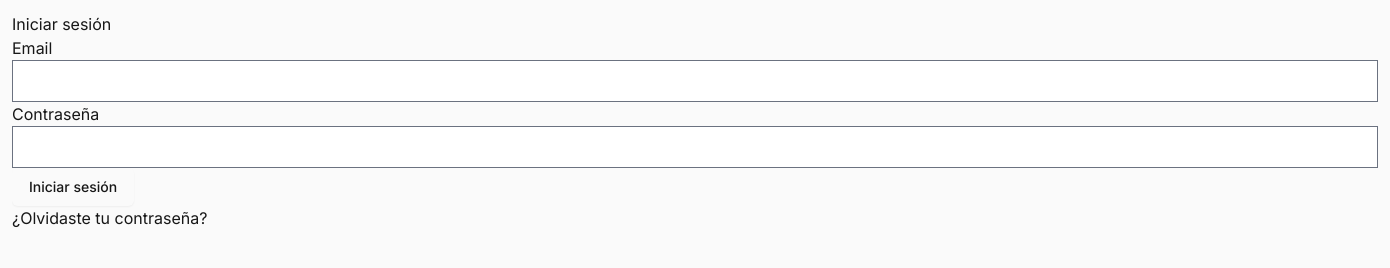
Scenario: LoginPage › shows generic error on invalid credentials
Type "user@example.com" into the field labelled "Email" at {"x": 695, "y": 81}, box [12,60,1378,102]
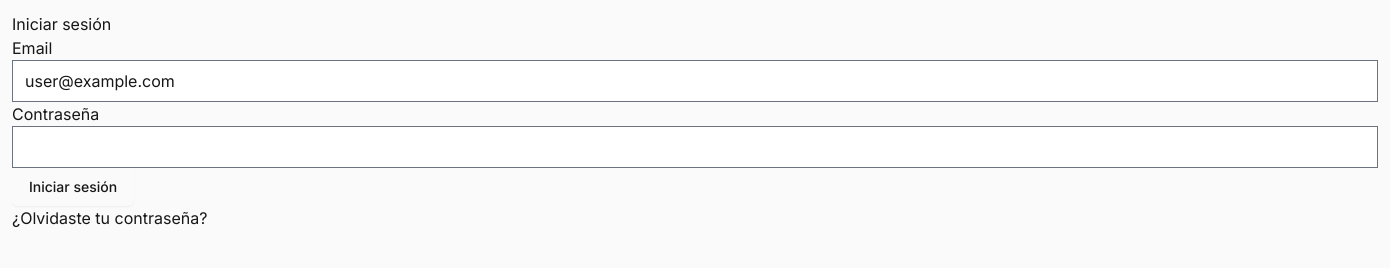
Type "wrongpass" into the password field labelled "Contraseña" at {"x": 695, "y": 147}, box [12,126,1378,168]
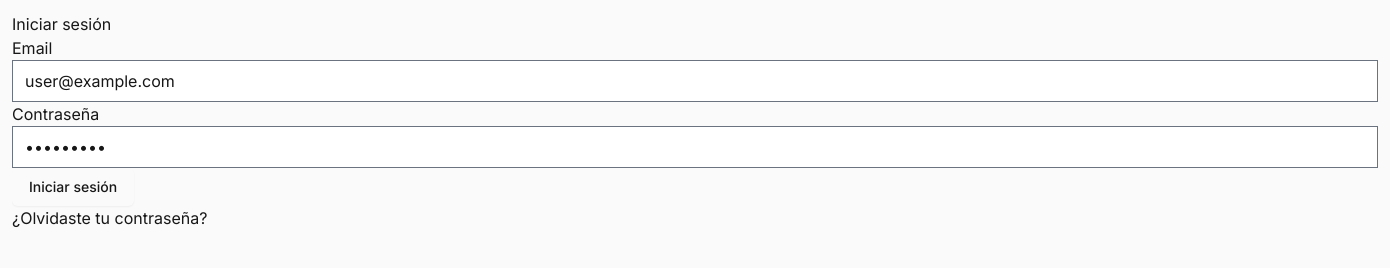
Click the button "Iniciar sesión" at {"x": 73, "y": 187}, box [12,168,134,206]
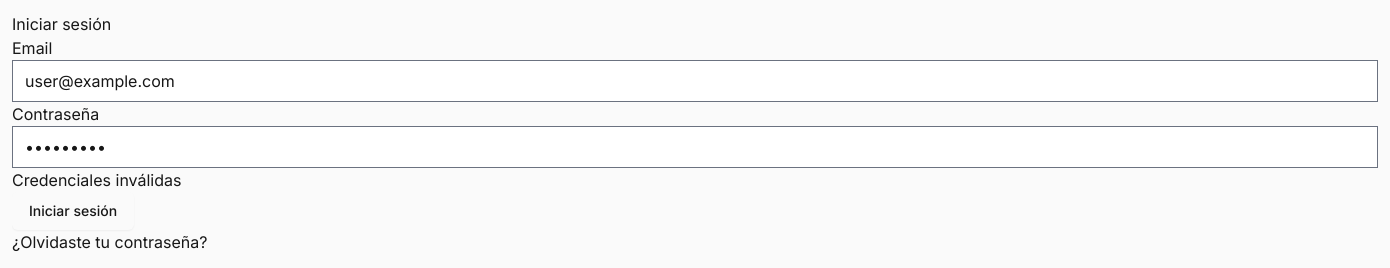
Now the text "Credenciales inválidas" is shown, box [12,170,182,190]
